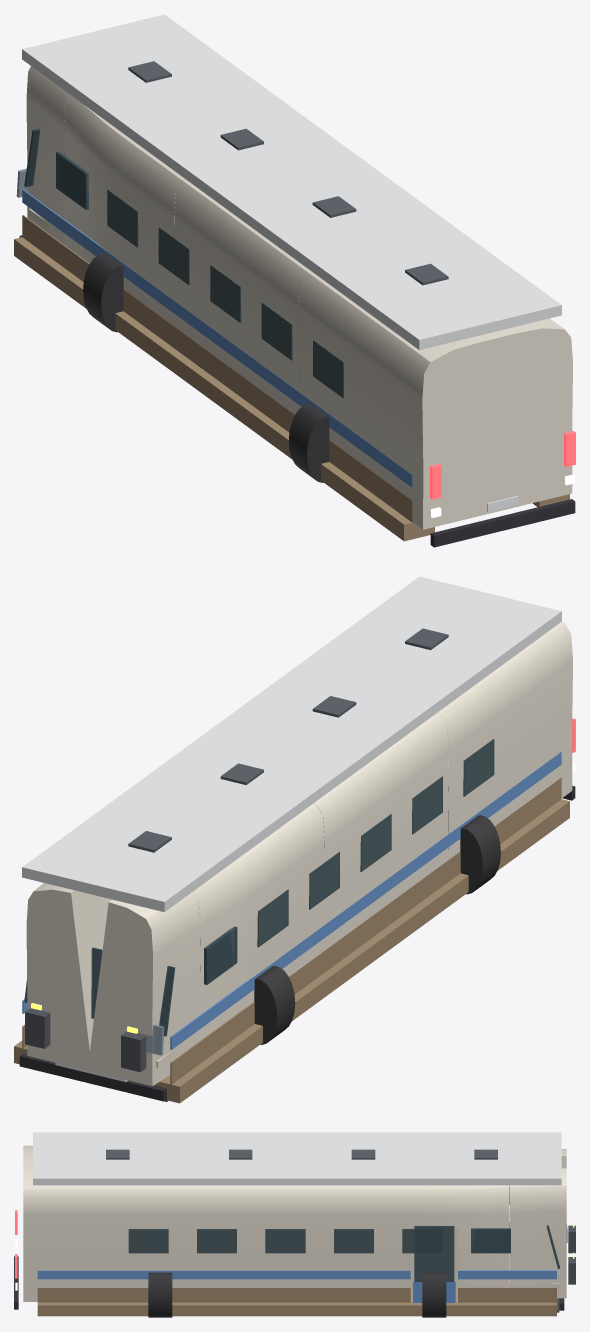
The model's file is viking.glb.
3 views of the same model, one above another, from view 1: azimuth 30°, elevation 25°; view 2: azimuth 150°, elevation 25°; view 3: azimuth 270°, elevation 25° (orthographic). The views are drawn at different scales.
Parts seen in each view (by area): view 1: CabinRear, RoofBand_2, RoofBand_0, RoofBand_1, CabinMid, CabinFront, Hood, BrownBand_L_2, BrownSkirt_L_2, Wheel_L_-2_Tyre, Wheel_L_2_Tyre, RearBumper (+17 smaller); view 2: Hood, RoofBand_0, RoofBand_2, RoofBand_1, CabinRear, CabinMid, CabinFront, BrownBand_L_2, BrownSkirt_L_2, Wheel_L_-2_Tyre, Wheel_L_2_Tyre, BlueBand_L_2 (+20 smaller); view 3: CabinRear, CabinMid, CabinFront, RoofBand_1, RoofBand_0, RoofBand_2, Hood, BrownBand_R_2, BrownSkirt_R_2, BlueBand_R_2, DoorGlass, BrownBand_R_3 (+23 smaller).
Boxes of the visible parts, x1=… form: CabinRear: x1=298, y1=270, x2=572, y2=529; RoofBand_2: x1=288, y1=209, x2=561, y2=349; RoofBand_0: x1=22, y1=14, x2=295, y2=154; RoofBand_1: x1=153, y1=110, x2=430, y2=253; CabinMid: x1=174, y1=179, x2=308, y2=414; CabinFront: x1=64, y1=95, x2=306, y2=326; Hood: x1=26, y1=66, x2=184, y2=244; BrownBand_L_2: x1=174, y1=327, x2=294, y2=432; BrownSkirt_L_2: x1=166, y1=349, x2=273, y2=439; Wheel_L_-2_Tyre: x1=83, y1=253, x2=123, y2=332; Wheel_L_2_Tyre: x1=288, y1=403, x2=329, y2=482; RearBumper: x1=430, y1=499, x2=575, y2=547; Hood: x1=26, y1=883, x2=200, y2=1086; RoofBand_0: x1=22, y1=771, x2=295, y2=912; RoofBand_2: x1=288, y1=576, x2=561, y2=716; RoofBand_1: x1=153, y1=672, x2=430, y2=815; CabinRear: x1=438, y1=621, x2=572, y2=859; CabinMid: x1=194, y1=712, x2=448, y2=950; CabinFront: x1=194, y1=803, x2=324, y2=1040; BrownBand_L_2: x1=324, y1=853, x2=458, y2=972; BrownSkirt_L_2: x1=324, y1=900, x2=431, y2=991; Wheel_L_-2_Tyre: x1=254, y1=965, x2=295, y2=1044; Wheel_L_2_Tyre: x1=448, y1=815, x2=500, y2=894; BlueBand_L_2: x1=324, y1=827, x2=458, y2=938; CabinRear: x1=23, y1=1145, x2=188, y2=1301; CabinMid: x1=188, y1=1185, x2=353, y2=1287; CabinFront: x1=354, y1=1185, x2=509, y2=1287; RoofBand_1: x1=207, y1=1132, x2=386, y2=1185; RoofBand_0: x1=387, y1=1132, x2=561, y2=1185; RoofBand_2: x1=33, y1=1132, x2=207, y2=1185; Hood: x1=510, y1=1149, x2=566, y2=1298; BrownBand_R_2: x1=174, y1=1288, x2=353, y2=1302; BrownSkirt_R_2: x1=221, y1=1302, x2=353, y2=1316; BlueBand_R_2: x1=174, y1=1270, x2=353, y2=1279; DoorGlass: x1=414, y1=1226, x2=454, y2=1281; BrownBand_R_3: x1=37, y1=1288, x2=174, y2=1302.
Bounding box in the file's own units: 3.16 × 3.21 × 11.9.
